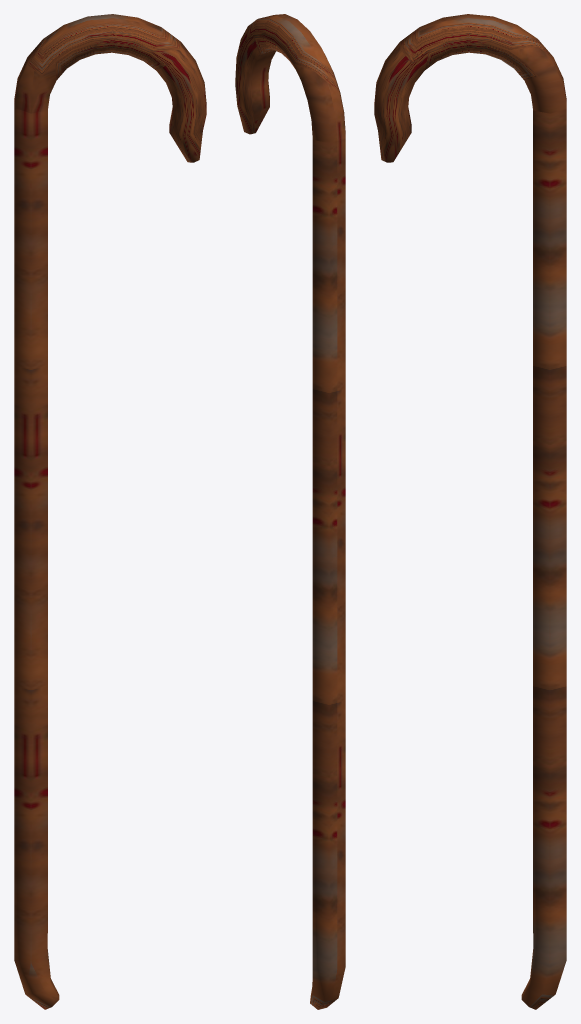
File: バール_crowbar.glb
3 renders of one model, left to right at view 1: azimuth 90°, elevation 25°; view 2: azimuth 210°, elevation 25°; view 3: azimuth 270°, elevation 25°, orthographic. The views are drawn at different scales.
Parts seen in each view (by area): view 1: crowbar; view 2: crowbar; view 3: crowbar.
Part boxes in pixels (<box>): crowbar: <box>14,14,206,1009</box>; crowbar: <box>235,14,345,1009</box>; crowbar: <box>374,14,566,1009</box>.
Size of the model in its own units: 0.022 by 0.6178 by 0.109.
Materials: 1 (1 with a texture image).
